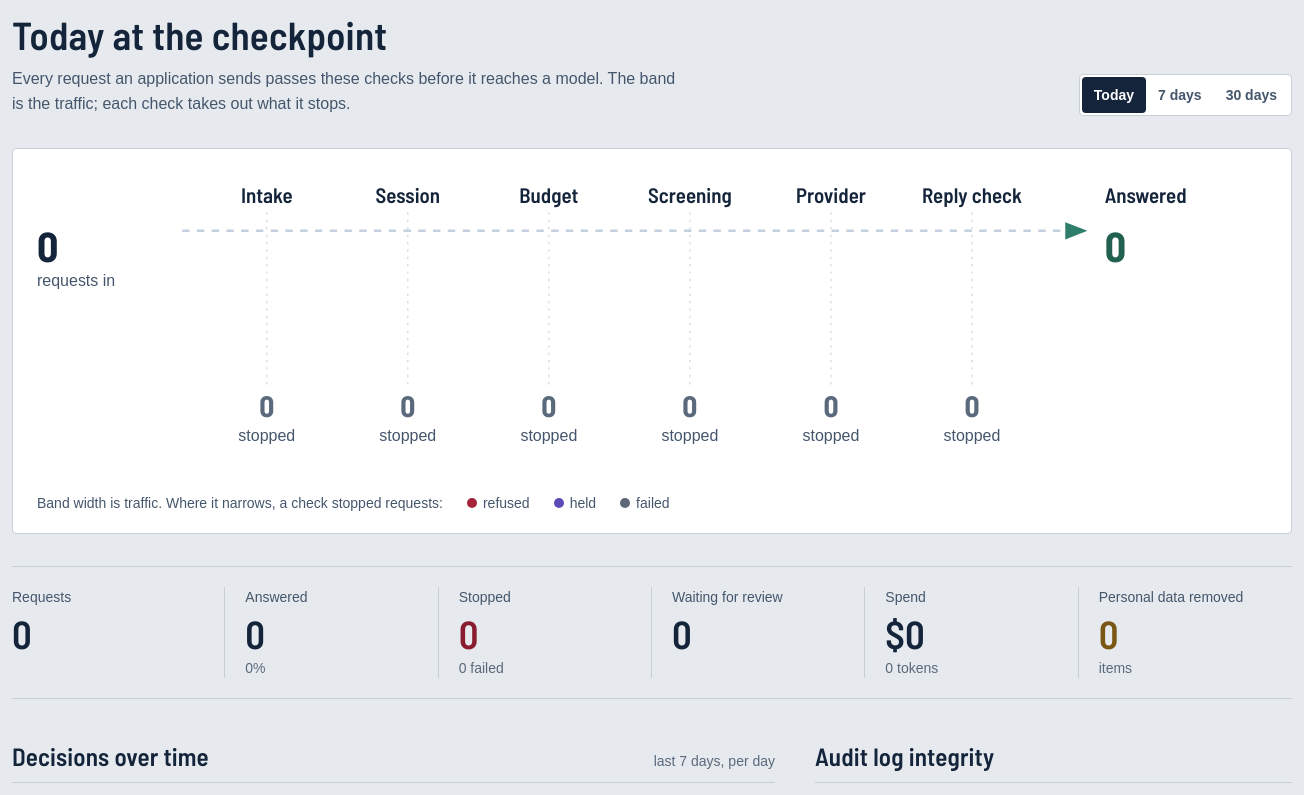
it: Overview › reloads for another time window
Expected: the picture named "route" is shown, [37,174,1267,481]
Click the radio button labelled "30 days" at [1251, 96], box [1214,78,1289,114]
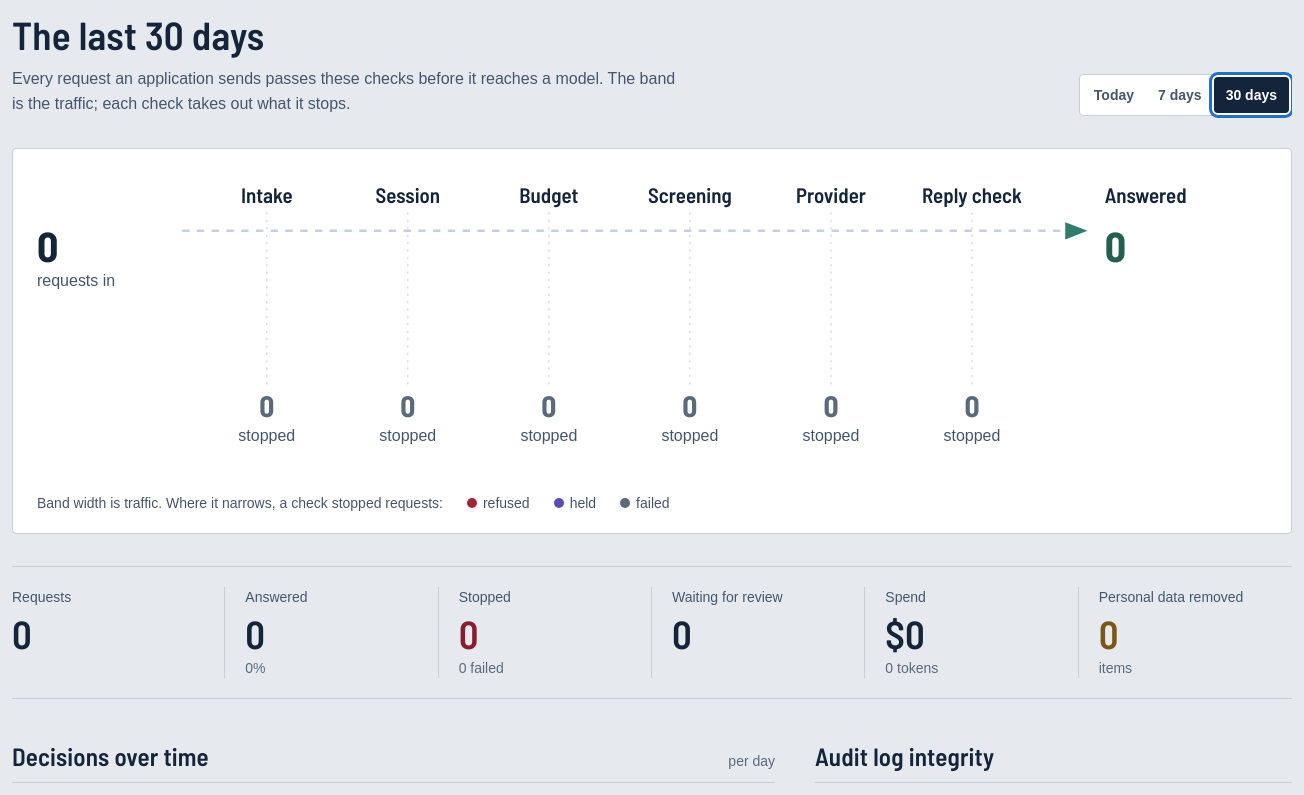
Expected: the heading "The last 30 days" is shown, [12,11,264,58]
